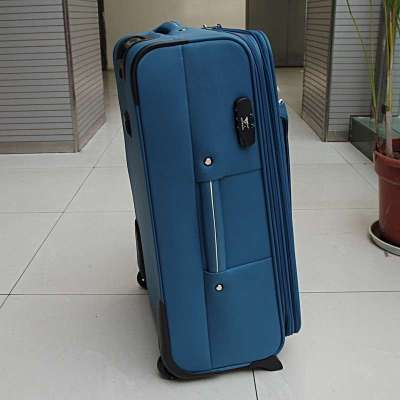suitcase: (109, 19, 302, 382)
